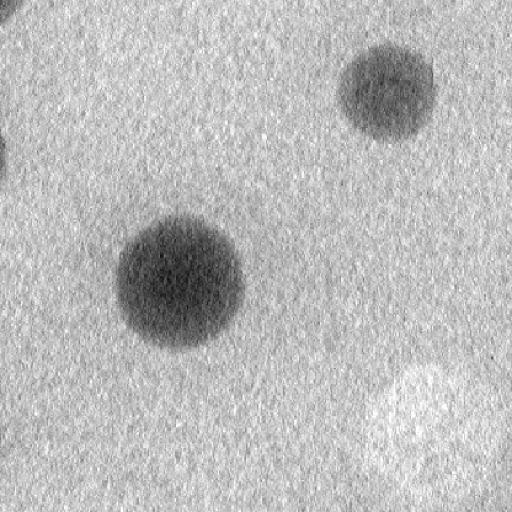Nanoparticles: (116, 211, 244, 351), (338, 39, 439, 143), (0, 0, 24, 22)
